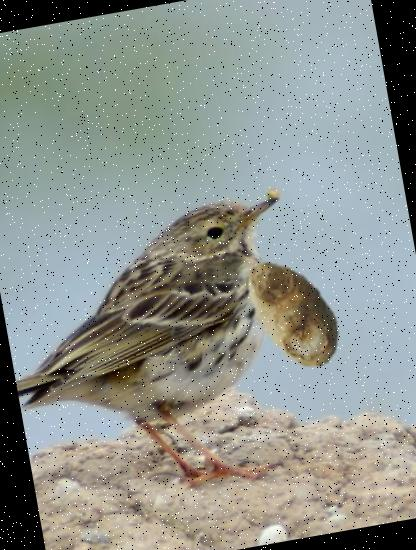Ginger: (221, 241, 365, 385)
